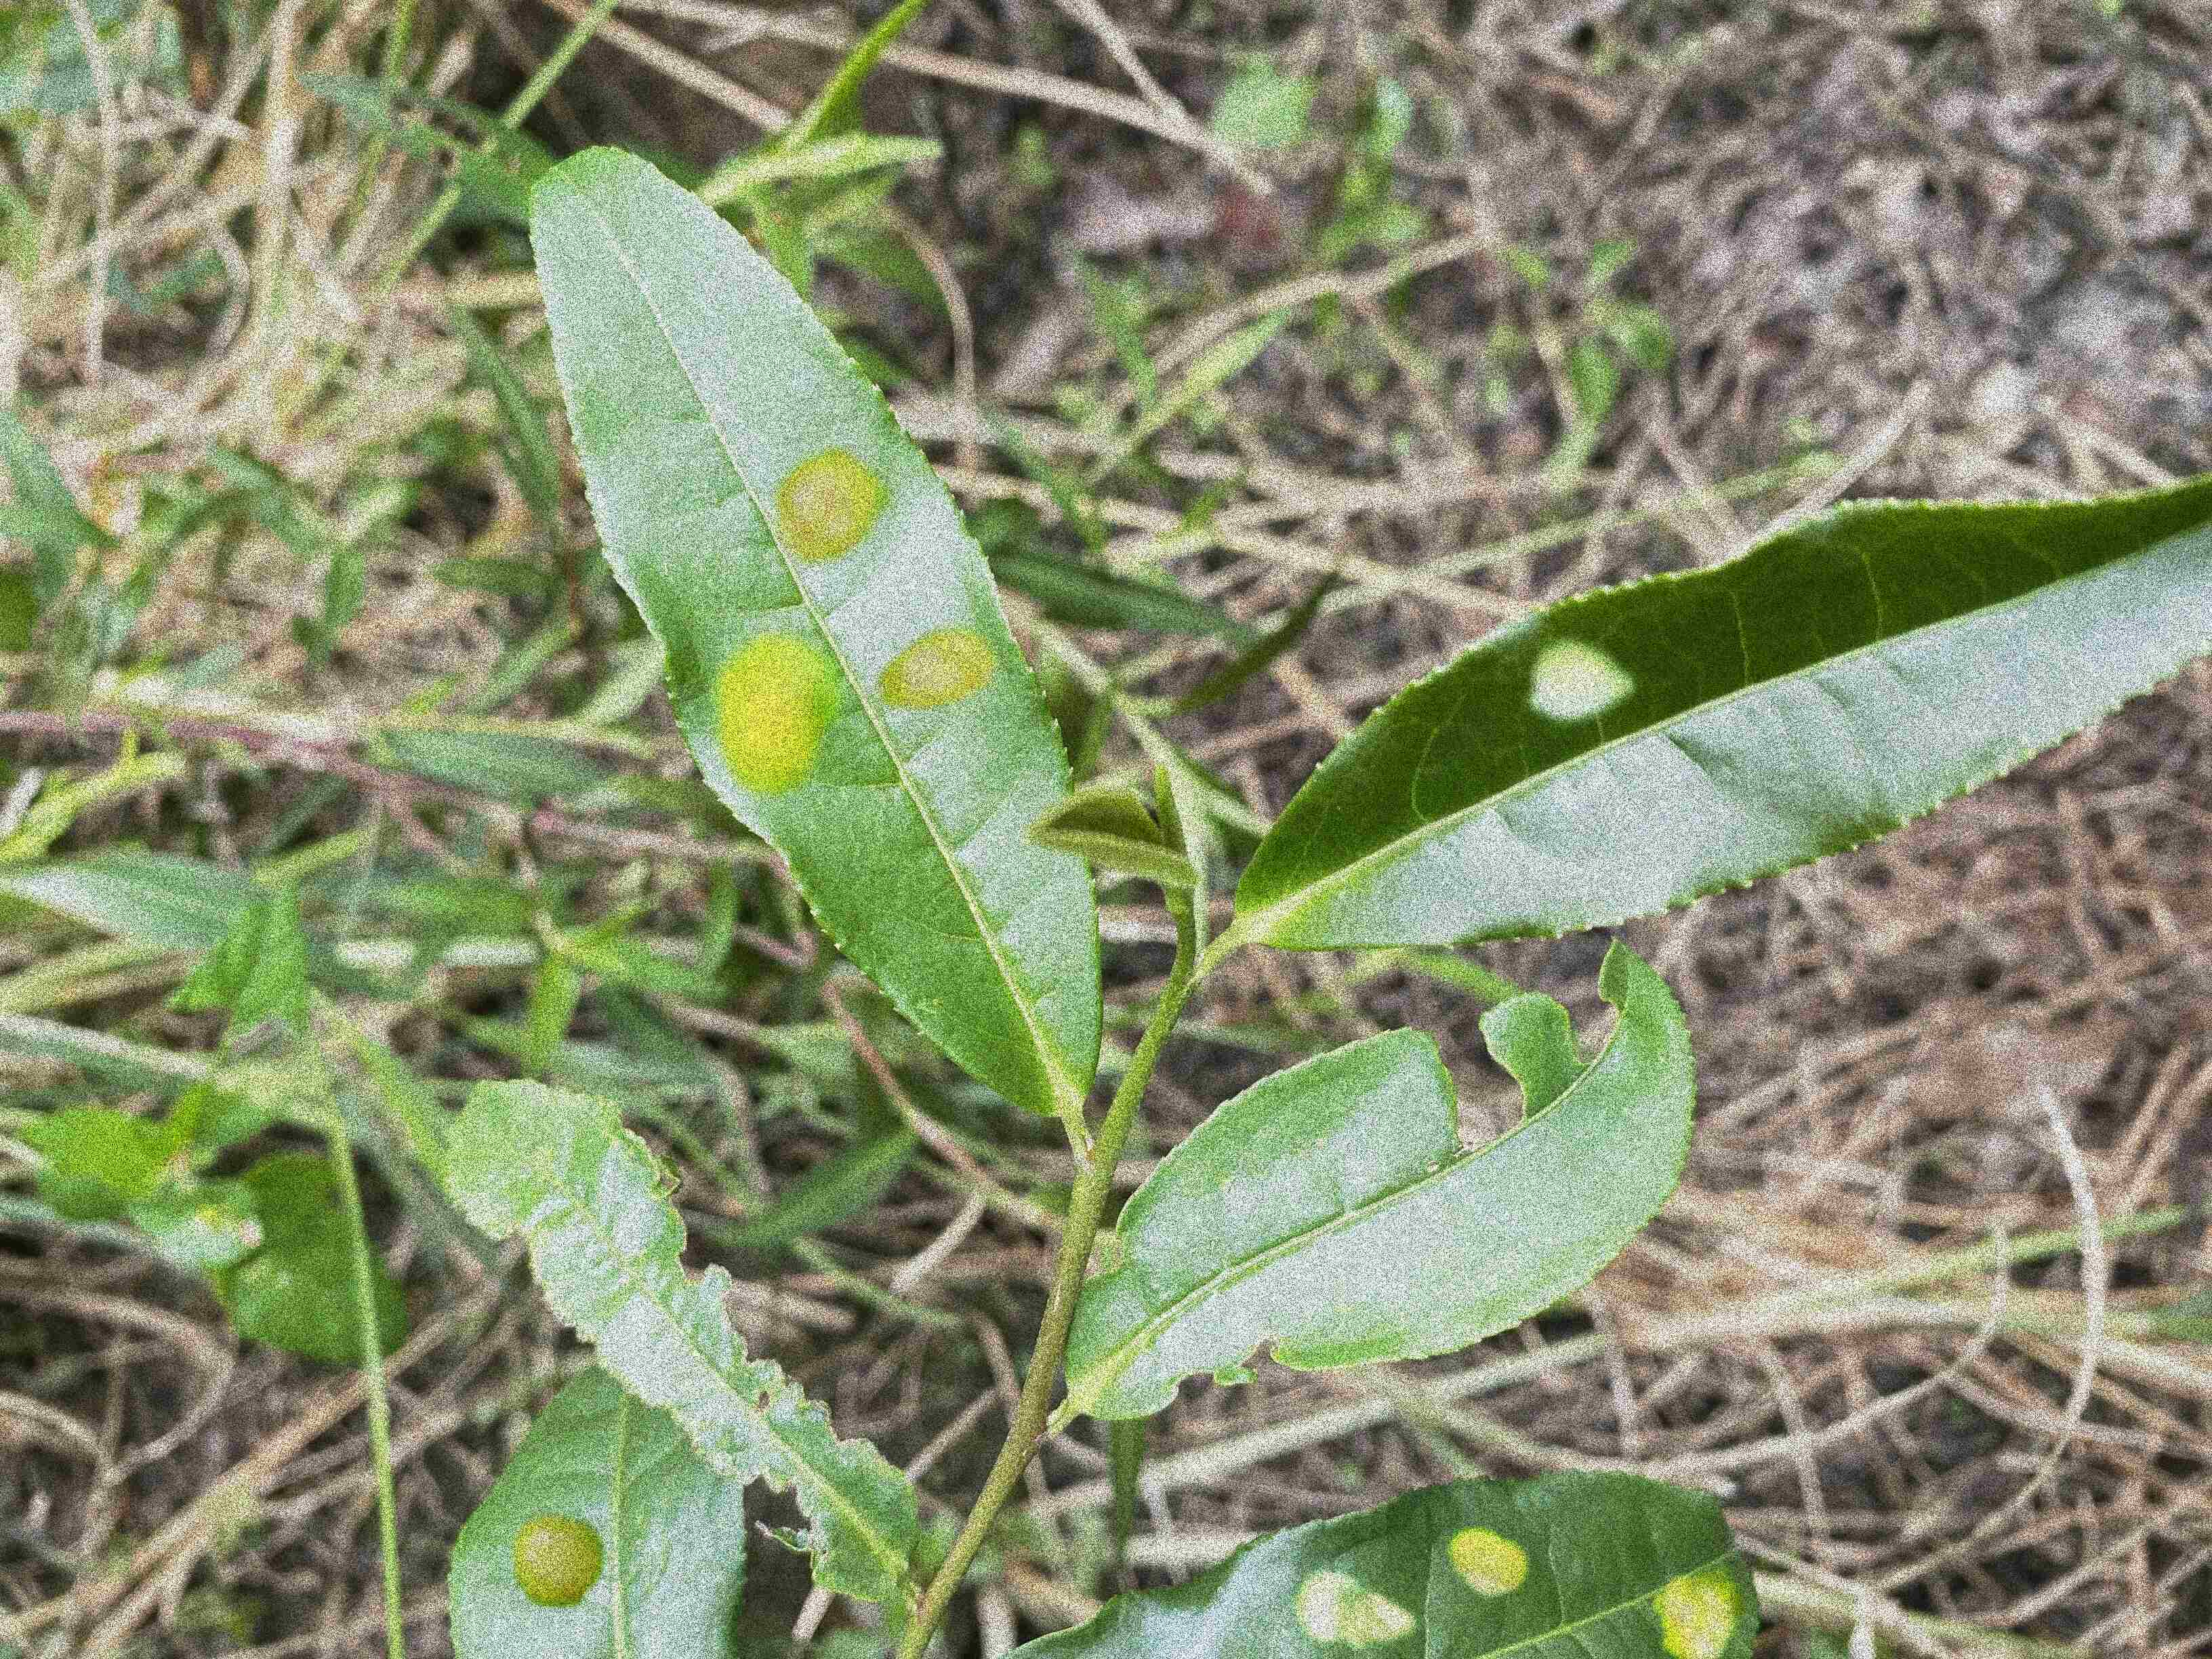chabing_high: (526, 146, 1103, 1112), (1001, 1466, 1763, 1659)
chabing_low: (1231, 484, 2210, 955), (439, 1361, 747, 1656)
chihuo_high: (1059, 936, 1698, 1422), (446, 1075, 921, 1600)
